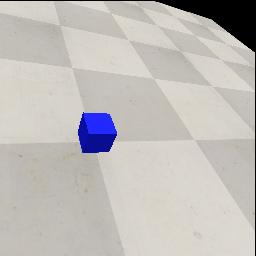box: (78, 112, 117, 153)
